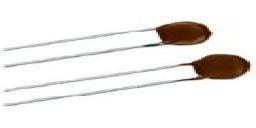Electrolytic-Capacitor: (2, 20, 221, 66), (153, 50, 253, 97)
